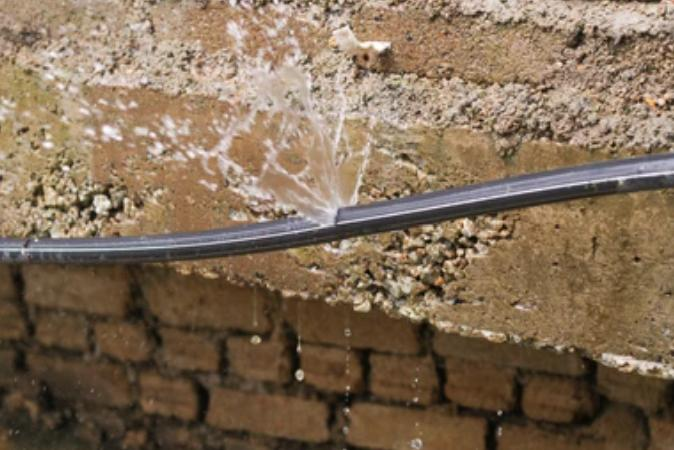pipe burst: (141, 54, 377, 228)
water drop: (412, 438, 424, 450), (295, 369, 305, 382), (251, 335, 262, 346), (296, 336, 302, 353)
